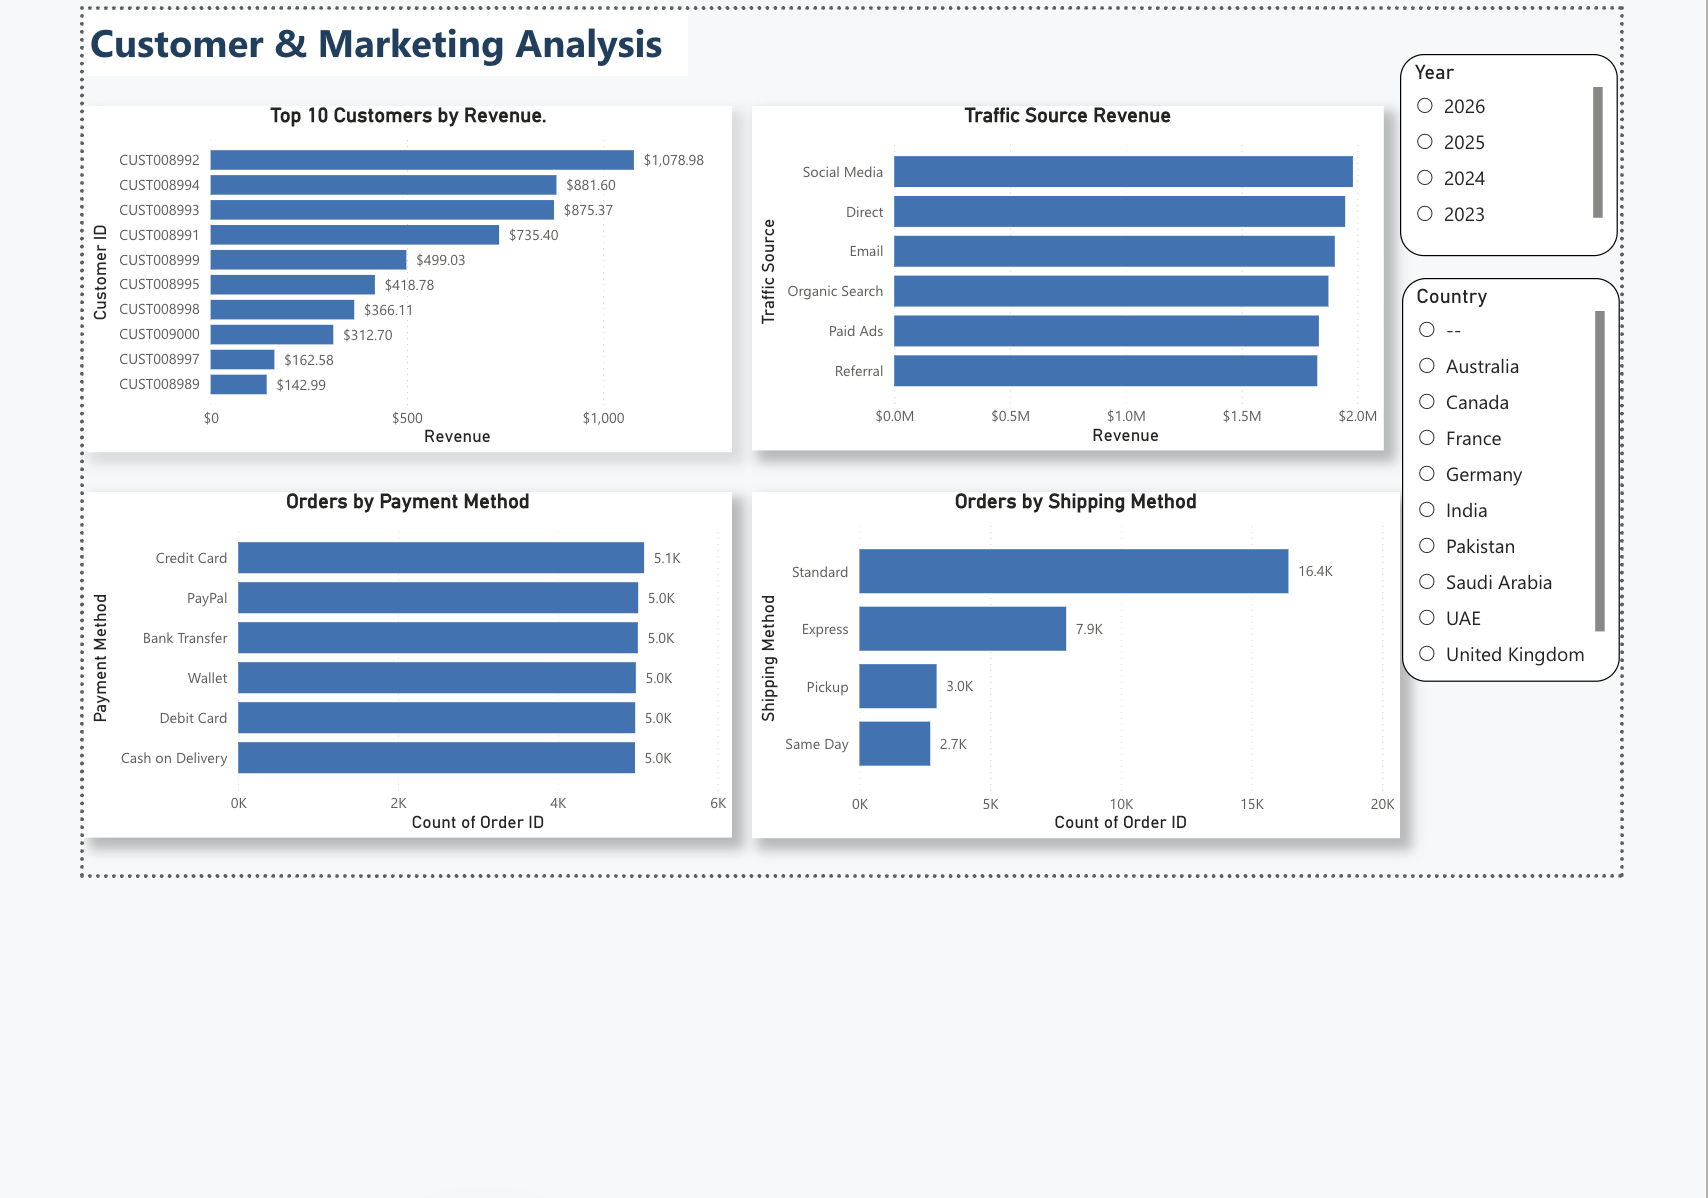

The dashboard page shown, as its layout file describes it:
{"tool":"powerbi","page":{"name":"Page 2","canvas":[1280,720],"ordinal":1},"visuals":[{"type":"clusteredBarChart","title":"Top 10 Customers by Revenue.","fields":{"Category":["ecommerce_orders.Customer_ID"],"Y":["Sum(ecommerce_orders.Order_Amount)"]},"box":[0,79.3,540.1,288.3],"z":0},{"type":"clusteredBarChart","title":"Traffic Source Revenue","fields":{"Category":["ecommerce_orders.Traffic_Source"],"Y":["Sum(ecommerce_orders.Order_Amount)"]},"box":[556.3,79.3,526.4,287.1],"z":1000},{"type":"clusteredBarChart","title":"Orders by Payment Method","fields":{"Category":["ecommerce_orders.Payment_Method"],"Y":["CountNonNull(ecommerce_orders.Order_ID)"]},"box":[0,402.2,540,288],"z":2000},{"type":"clusteredBarChart","title":"Orders by Shipping Method","fields":{"Category":["ecommerce_orders.Shipping_Method"],"Y":["CountNonNull(ecommerce_orders.Order_ID)"]},"box":[556.7,401.7,540,288.3],"z":3000},{"type":"listSlicer","fields":{"Values":["ecommerce_orders.Year"]},"box":[1096.7,36.7,181.7,168.3],"z":4000},{"type":"listSlicer","fields":{"Values":["ecommerce_orders.Country"]},"box":[1098.3,223.3,181.7,336.7],"z":6000},{"type":"textbox","box":[0,0,503.3,55],"z":10000}]}

Visuals, with their boxes on the page's 1280x720 design canvas (x1, y1, x2, y2). These are canvas units, not pixel positions in the 1708x1198 screenshot, which may show the page scaled, cropped or inside an application window:
"Top 10 Customers by Revenue." clusteredBarChart: pyautogui.locateOnScreen(0, 79, 540, 368)
"Traffic Source Revenue" clusteredBarChart: pyautogui.locateOnScreen(556, 79, 1083, 366)
"Orders by Payment Method" clusteredBarChart: pyautogui.locateOnScreen(0, 402, 540, 690)
"Orders by Shipping Method" clusteredBarChart: pyautogui.locateOnScreen(557, 402, 1097, 690)
listSlicer - ecommerce_orders.Year: pyautogui.locateOnScreen(1097, 37, 1278, 205)
listSlicer - ecommerce_orders.Country: pyautogui.locateOnScreen(1098, 223, 1280, 560)
textbox: pyautogui.locateOnScreen(0, 0, 503, 55)
